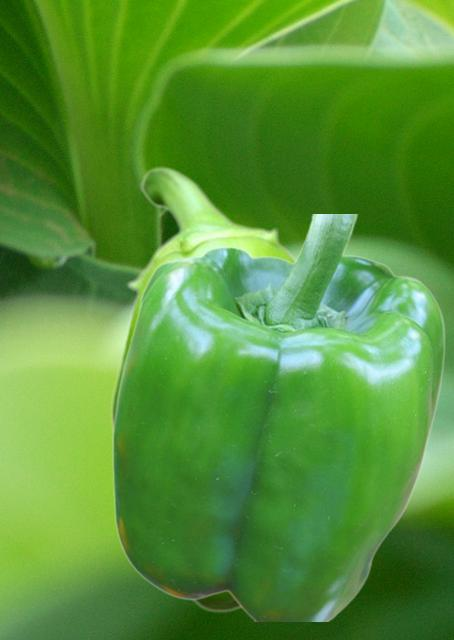bell_pepper: (111, 214, 444, 620), (109, 166, 295, 612)
